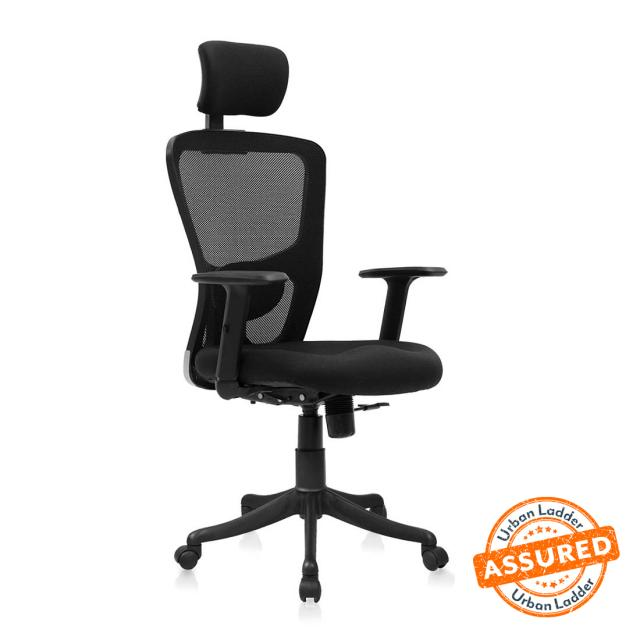chair: (80, 16, 512, 634)
